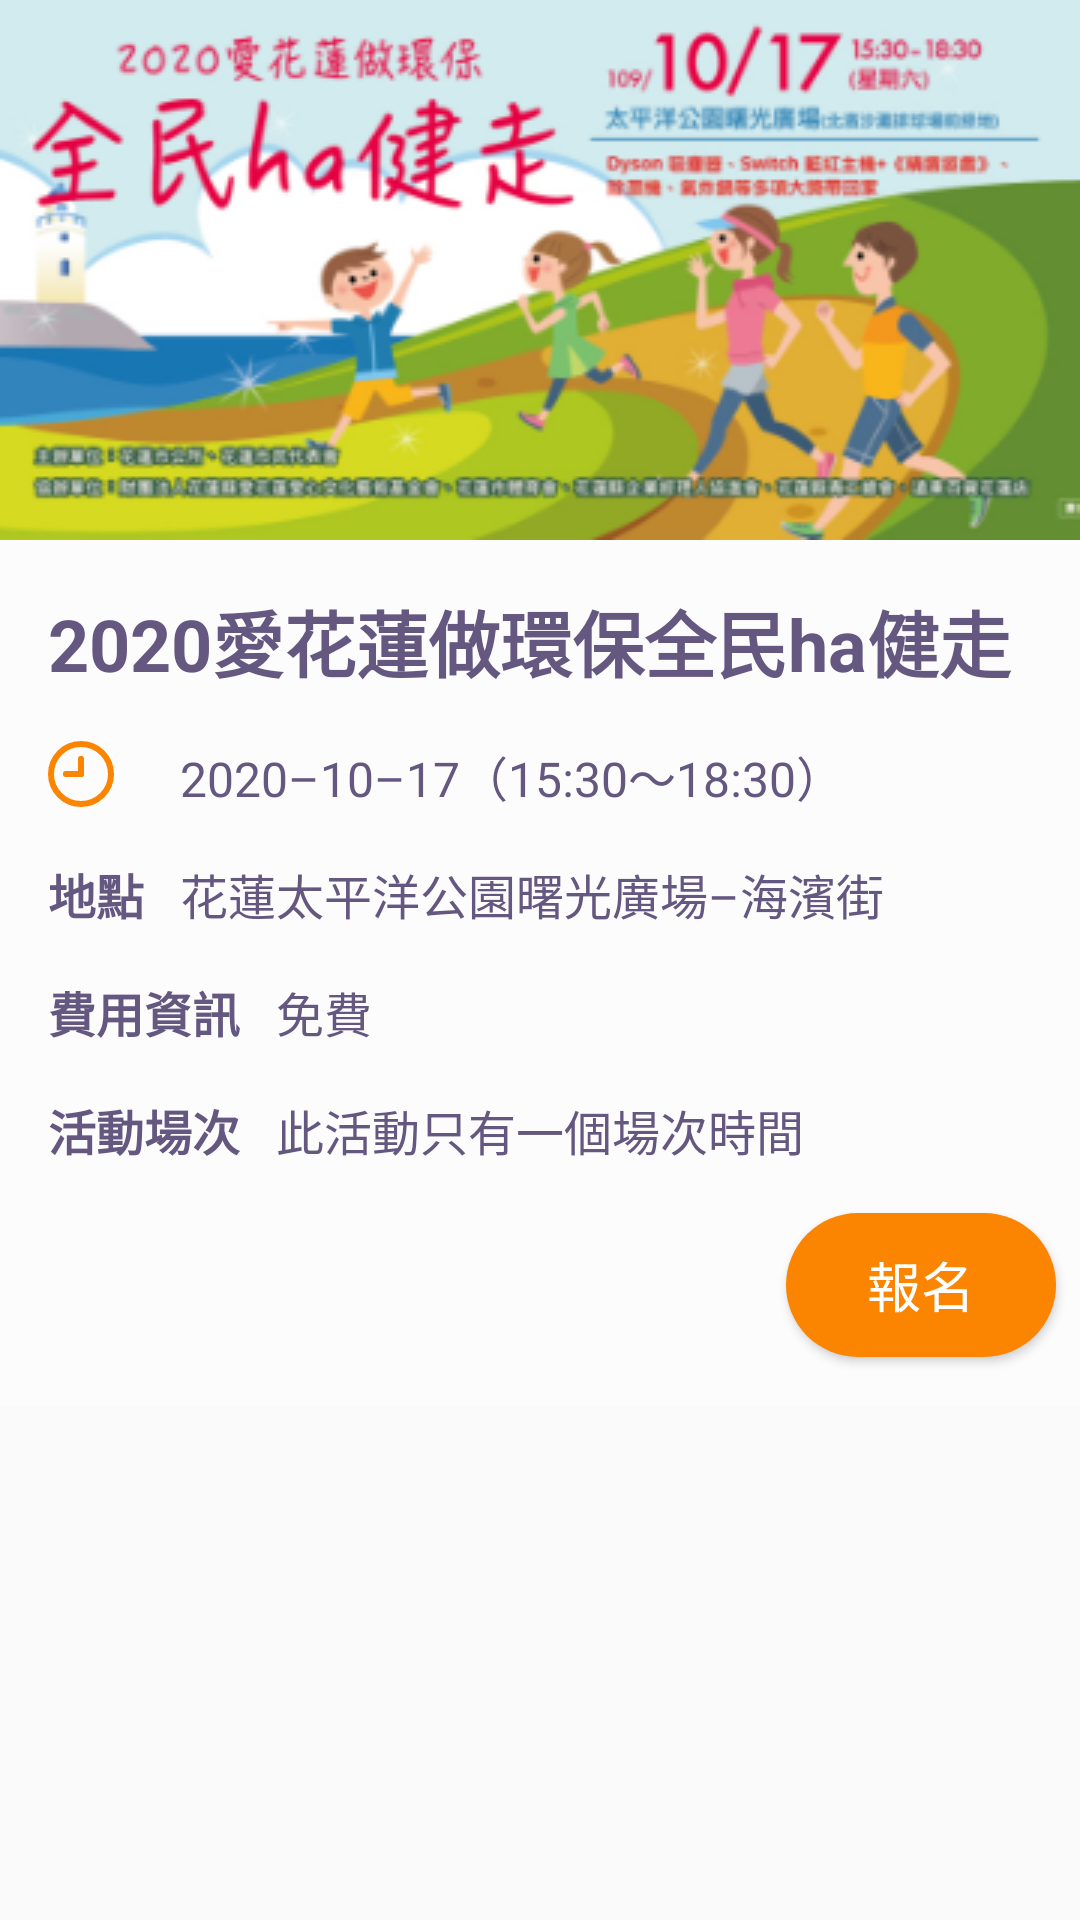

Icons on this 1080x1920 Android screen, each with the point to tap as [x,y]:
Time: [81,774]
